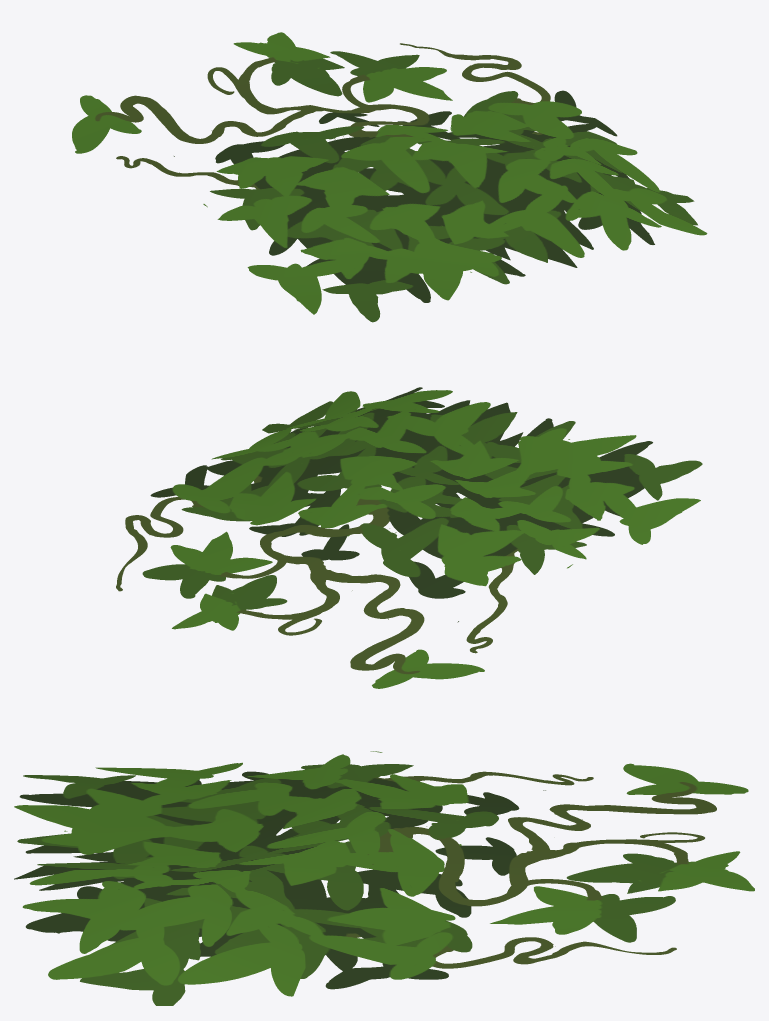
The model's file is SM_Vine05.FBX.
3 views of the same model, one above another, from view 1: azimuth 30°, elevation 25°; view 2: azimuth 150°, elevation 25°; view 3: azimuth 270°, elevation 25° (orthographic). The views are drawn at different scales.
Visible parts, largest first — view 1: Plane005; view 2: Plane005; view 3: Plane005.
Part boxes in pixels (x1,y1,x2,y2): Plane005: (72, 32, 707, 322); Plane005: (116, 387, 702, 688); Plane005: (14, 751, 754, 1005).
Size of the model in its own units: 65.71 by 6.87 by 84.33.
1 material, 1 textured.
